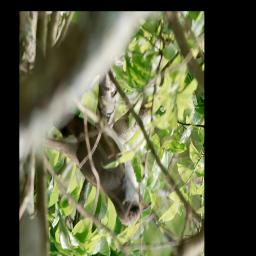Cuckoo: (41, 110, 151, 228)
